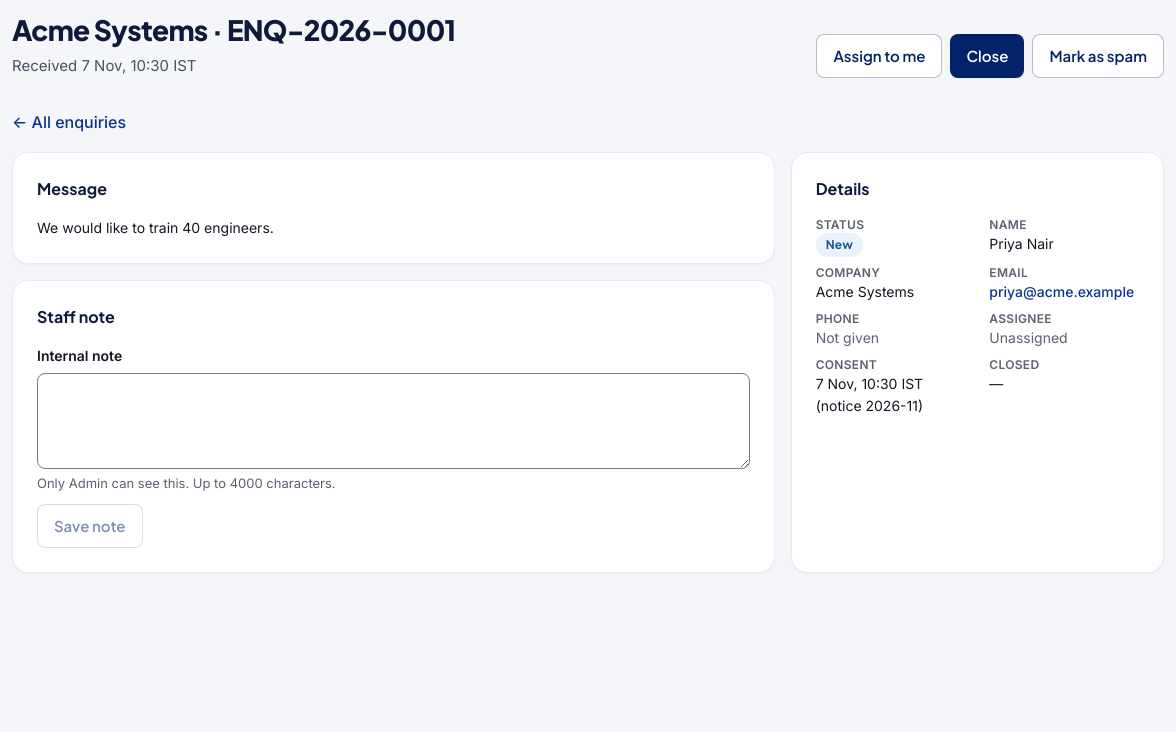
it: Corporate enquiry queue (D8) › shows the full enquiry and PATCHes status and assignment
Expected: the text "We would like to train 40 engineers." is shown, [37,219,274,236]
Click the button "Assign to me" at (880, 56), box [816,34,942,78]
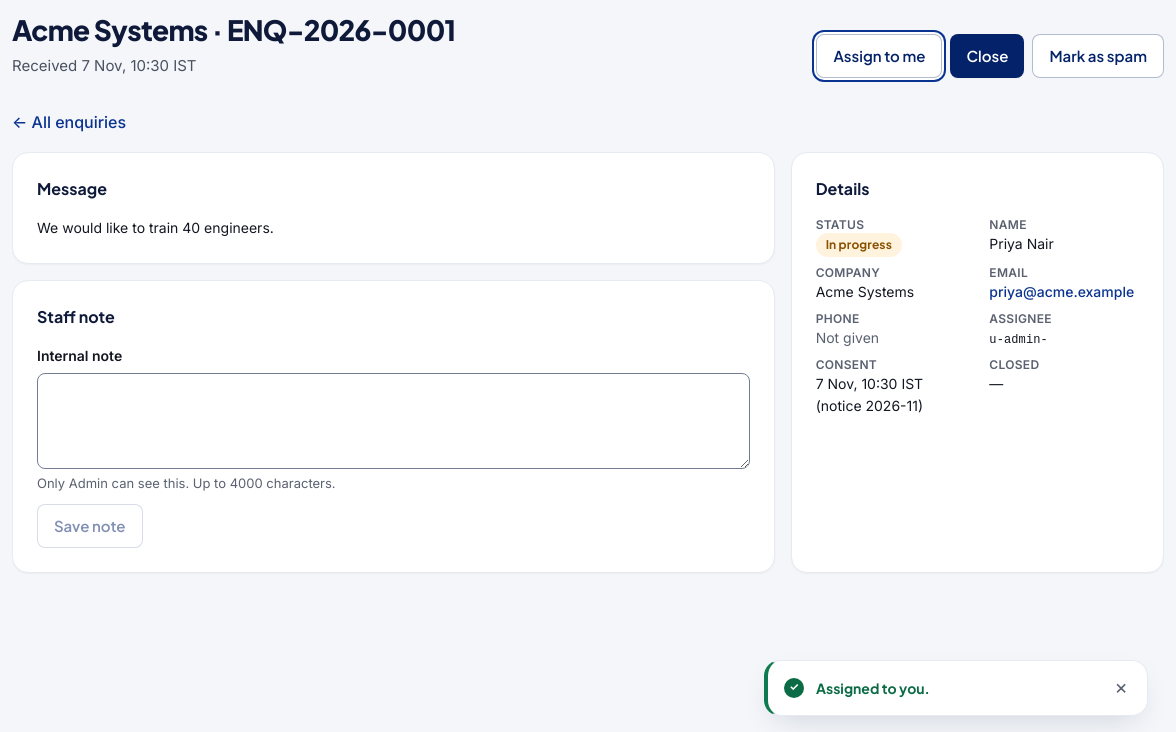
Expected: the text "Assigned to you." is shown, [816,679,930,697]
